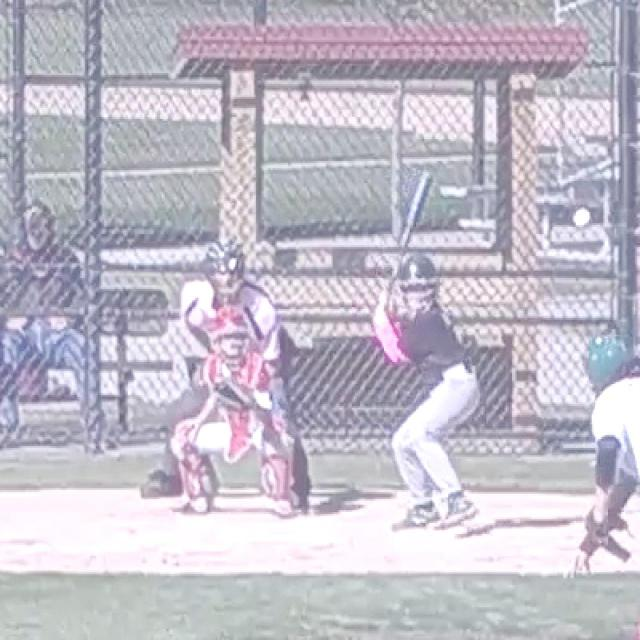baseball: (576, 210, 588, 224)
